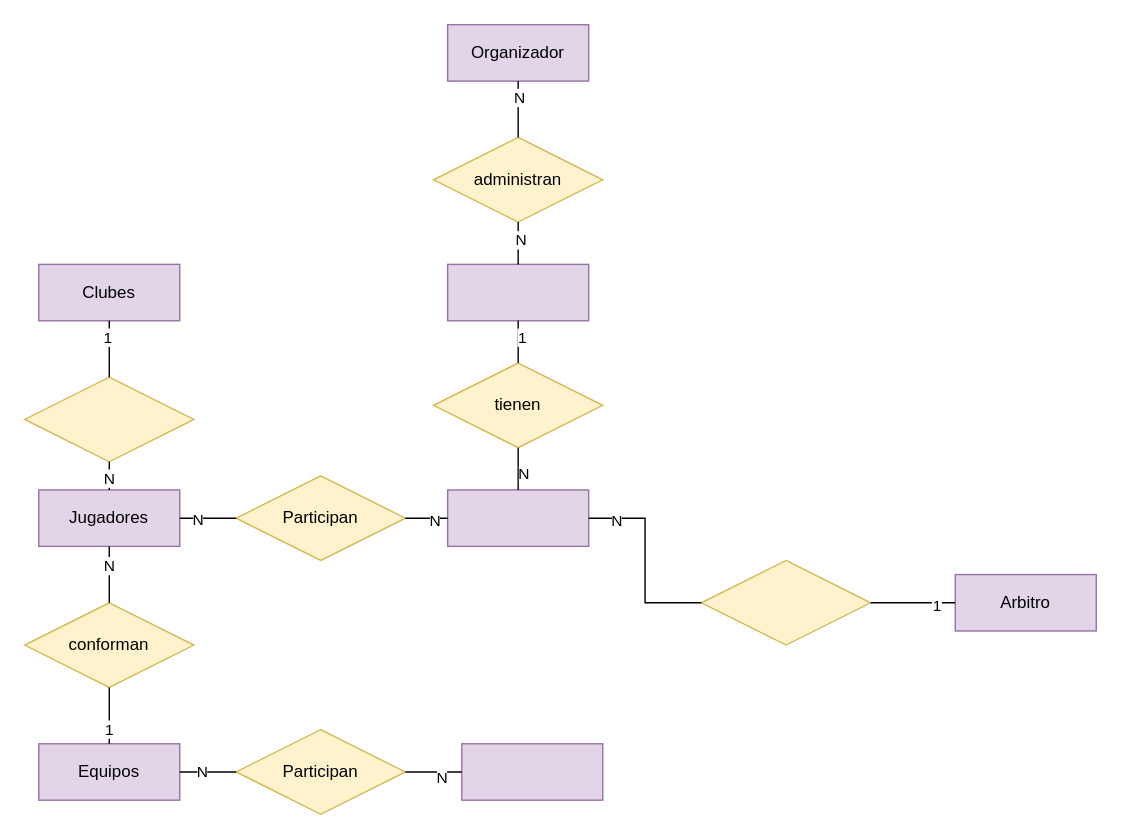
This 1121x839 diagram has some shape labels left out. Each missing label, with the box of its shape:
arbitrean: (700, 559, 871, 645)
Partidas: (446, 489, 589, 546)
Partidas_Corbillon: (460, 742, 603, 800)
pertenecen: (23, 376, 194, 462)
Torneos: (446, 263, 589, 321)
